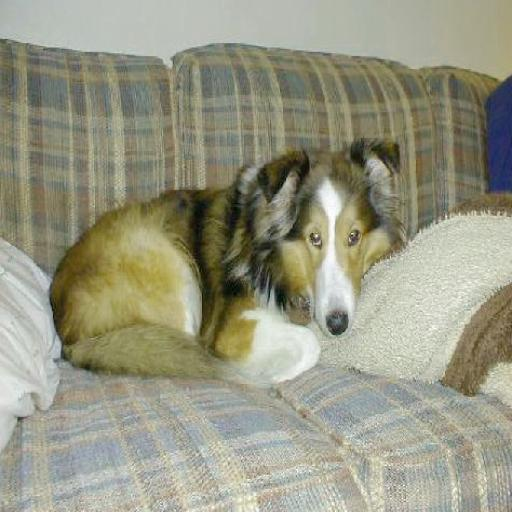dog_face: (254, 140, 400, 334)
